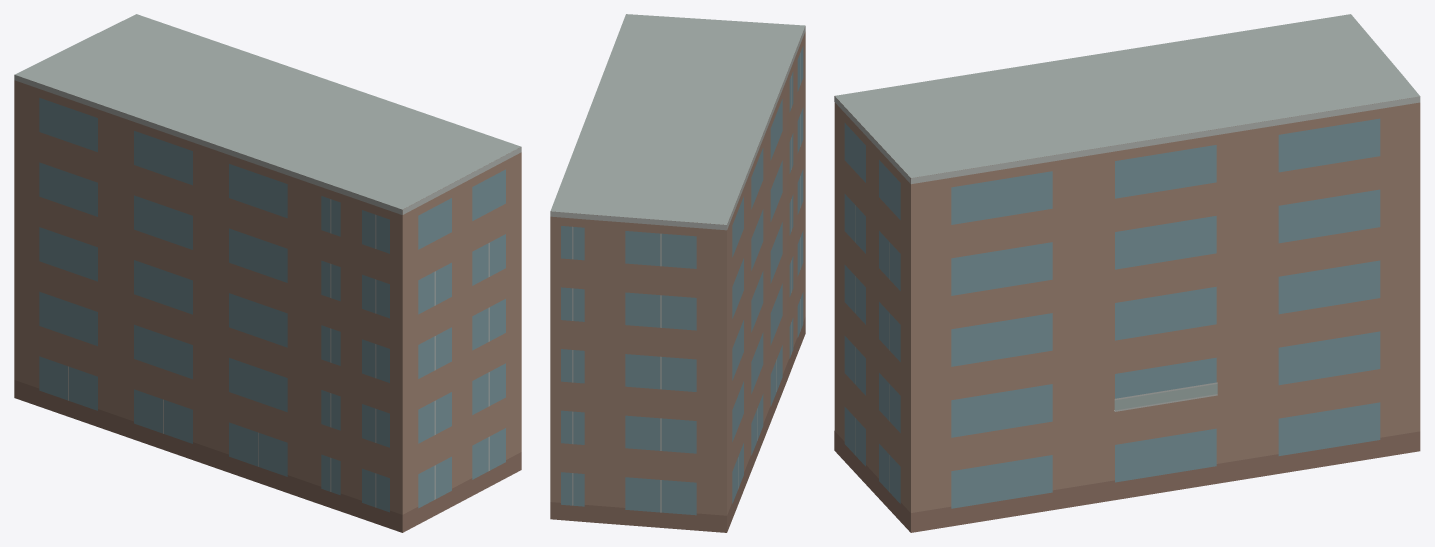
The model's file is survey-upis-32856929.glb.
3 renders of one model, left to right at view 1: azimuth 30°, elevation 25°; view 2: azimuth 150°, elevation 25°; view 3: azimuth 270°, elevation 25°, orthographic. The views are drawn at different scales.
Parts seen in each view (by area): view 1: survey-upis-32856929.tmp; view 2: survey-upis-32856929.tmp; view 3: survey-upis-32856929.tmp.
Part boxes in pixels (x1,y1,x2,y2): survey-upis-32856929.tmp: (14, 14, 521, 532); survey-upis-32856929.tmp: (550, 14, 805, 532); survey-upis-32856929.tmp: (834, 14, 1420, 532).
Bounding box in the file's own units: 14.1 × 14.2 × 21.26.
